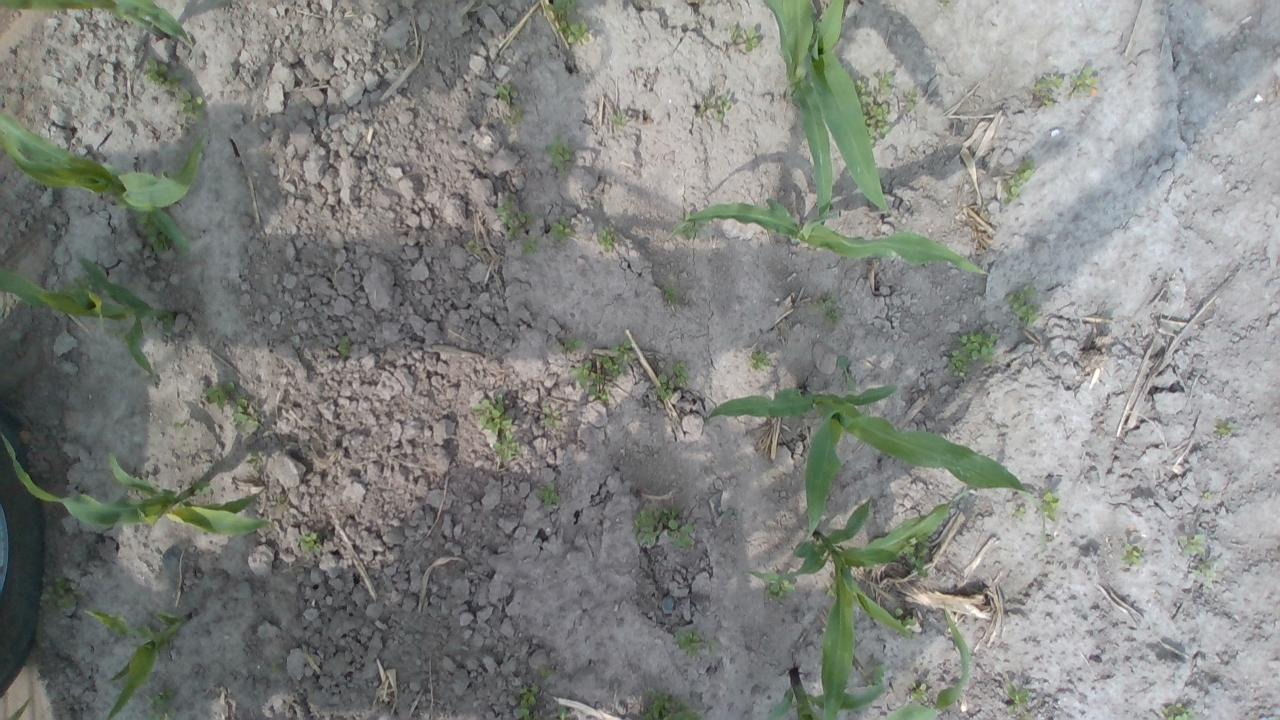Maize: (744, 492, 1050, 720), (702, 374, 1048, 554), (0, 421, 268, 538), (758, 0, 892, 228), (0, 108, 206, 254), (660, 195, 980, 282), (760, 607, 970, 720), (0, 252, 167, 386), (80, 604, 198, 720), (0, 0, 199, 49)
Weeds: (470, 392, 522, 462), (853, 72, 895, 148), (632, 502, 694, 550), (946, 331, 999, 378), (633, 686, 704, 720), (567, 356, 609, 404), (546, 0, 590, 45), (40, 576, 86, 615), (1000, 156, 1035, 206), (496, 198, 536, 241), (135, 209, 172, 254), (598, 340, 637, 380), (544, 133, 578, 176), (144, 55, 183, 92), (1004, 286, 1038, 326), (901, 534, 930, 579), (1070, 65, 1102, 100), (694, 93, 732, 122), (233, 396, 261, 435), (512, 683, 540, 720), (146, 688, 178, 720), (812, 290, 842, 324), (65, 274, 104, 300), (674, 626, 704, 659), (727, 23, 762, 51), (202, 382, 236, 410), (1034, 74, 1062, 108), (1002, 684, 1030, 718), (1037, 488, 1063, 521), (764, 578, 798, 602), (890, 608, 917, 638), (1178, 531, 1208, 558), (180, 88, 206, 119), (548, 214, 574, 245), (805, 13, 825, 51), (1191, 558, 1218, 586), (594, 222, 618, 252), (865, 656, 889, 686), (836, 356, 857, 390), (1159, 701, 1196, 720), (678, 212, 701, 240), (654, 371, 676, 400), (536, 482, 562, 506), (746, 348, 773, 370), (1210, 418, 1238, 439), (1119, 541, 1143, 565), (108, 324, 134, 346), (493, 81, 520, 102), (299, 530, 322, 554), (502, 106, 526, 129), (906, 680, 929, 704), (671, 359, 690, 387), (608, 108, 630, 130), (663, 280, 682, 304), (246, 448, 263, 474), (556, 337, 585, 352), (518, 237, 542, 255), (540, 407, 560, 428), (336, 334, 352, 358), (1008, 502, 1027, 521), (822, 578, 838, 598), (906, 86, 918, 109), (706, 636, 721, 652), (558, 703, 568, 720), (939, 0, 954, 11), (538, 666, 553, 676), (172, 421, 185, 432), (1200, 490, 1214, 500), (725, 508, 738, 516)
